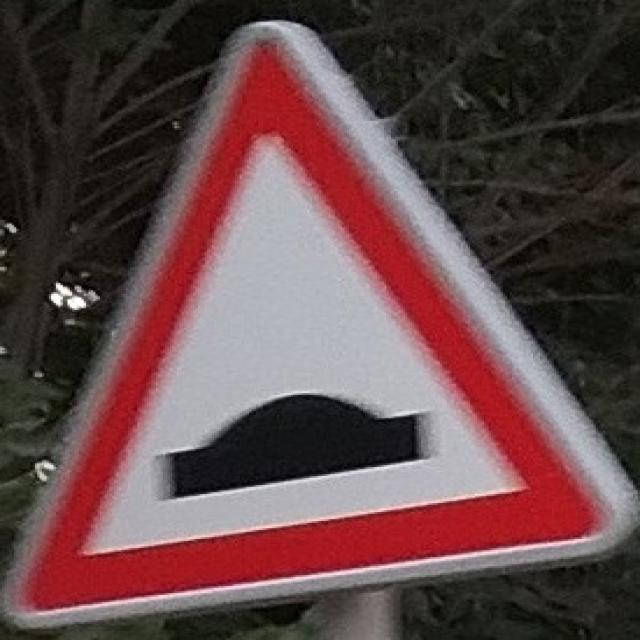HUMP_OR_ROUGH_ROAD: (15, 28, 626, 621)
